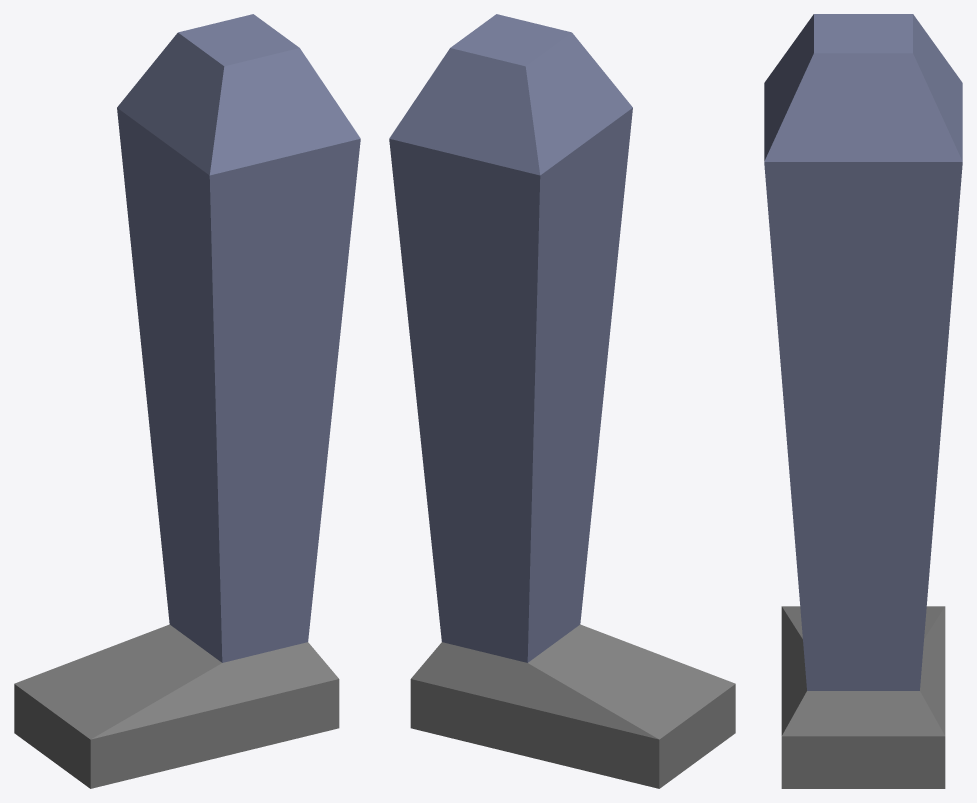
Rendered from Bandit3LowerLeg.fbx.
The picture shows the model from 3 angles, left to right: view 1: azimuth 30°, elevation 25°; view 2: azimuth 150°, elevation 25°; view 3: azimuth 270°, elevation 25°; orthographic projection. The views are drawn at different scales.
Parts seen in each view (by area): view 1: Bandit3LowerLeg; view 2: Bandit3LowerLeg; view 3: Bandit3LowerLeg.
Part boxes in pixels (x1,y1,x2,y2): Bandit3LowerLeg: [14, 14, 360, 788]; Bandit3LowerLeg: [389, 14, 735, 788]; Bandit3LowerLeg: [764, 14, 962, 788].
Bounding box in the file's own units: 0.272 × 0.6698 × 0.1668.
